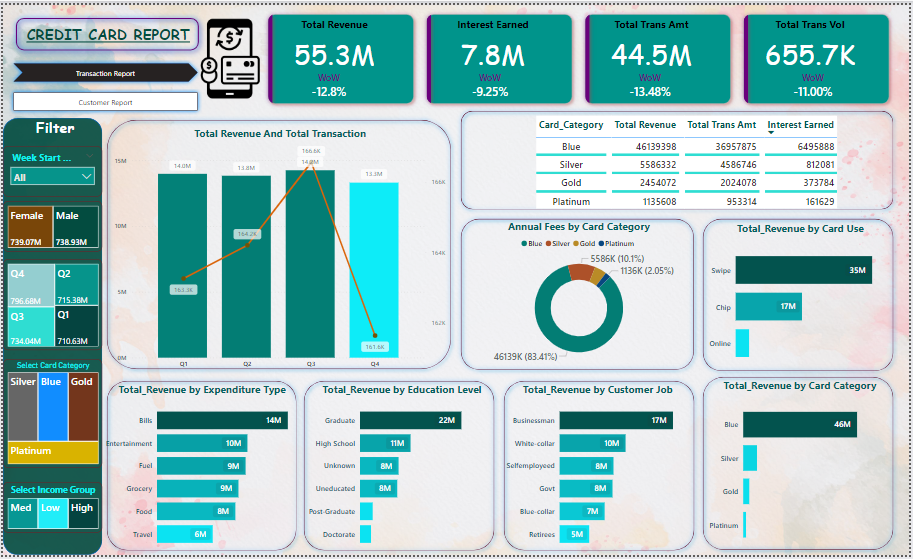

The page's visual inventory and layout, read from the dashboard file:
{"tool":"powerbi","page":{"name":"Transaction Report","canvas":[1680,1020],"ordinal":0},"visuals":[{"type":"shape","box":[11.7,11.7,365,86],"z":0},{"type":"shape","box":[0,210.2,184.1,810.4],"z":0,"group":"g1"},{"type":"group","id":"g1","title":"Group 4","box":[0,204.1,184.1,816.6],"z":1000},{"type":"textbox","box":[23.4,204.1,145.6,57.1],"z":1000,"group":"g1"},{"type":"cardVisual","fields":{"Data":["Sum(credit_card.Total_Revenue)","Sum(credit_card.Interest_Earned)","Sum(credit_card.Total_Trans_Amt)","Sum(credit_card.Total_Trans_Vol)"]},"box":[474.1,0,1187.5,200.4],"z":2000},{"type":"shape","box":[184.1,204.1,656.1,480.3],"z":2000,"group":"g3"},{"type":"shape","box":[840,187.4,819.9,200.8],"z":3000},{"type":"shape","box":[1289.5,681.1,371.2,338.9],"z":4000},{"type":"shape","box":[548.7,687.5,371.2,332.5],"z":5000},{"type":"shape","box":[1289.5,387.3,371.2,300.2],"z":6000,"group":"g2"},{"type":"shape","box":[919.9,687.5,371.2,332.5],"z":6000},{"type":"shape","box":[840,388.2,450.1,297.8],"z":7000,"group":"g4"},{"type":"shape","box":[184,687.5,369.6,332.5],"z":7000},{"type":"barChart","title":"Total_Revenue by Expenditure Type","fields":{"Y":["Sum(credit_card.Total_Revenue)"],"Category":["credit_card.Exp Type"]},"box":[184,698.8,371.2,321.2],"z":8000},{"type":"lineStackedColumnComboChart","title":"Total Revenue And Total Transaction","fields":{"Category":["credit_card.Qtr"],"Y":["Sum(credit_card.Total_Revenue)"],"Y2":["Sum(credit_card.Total_Trans_Vol)"]},"box":[202.1,224.8,623.6,459.6],"z":9000,"group":"g3"},{"type":"barChart","title":"Total_Revenue by Education Level","fields":{"Y":["Sum(credit_card.Total_Revenue)"],"Category":["customer.Education_Level"]},"box":[560,698.8,359.9,321.2],"z":9000},{"type":"barChart","title":"Total_Revenue by Customer Job","fields":{"Y":["Sum(credit_card.Total_Revenue)"],"Category":["customer.Customer_Job"]},"box":[926.4,698.8,351.8,321.2],"z":10000},{"type":"barChart","title":"Total_Revenue by Card Category","fields":{"Y":["Sum(credit_card.Total_Revenue)"],"Category":["credit_card.Card_Category"]},"box":[1304.1,692.4,348.6,327.6],"z":11000},{"type":"tableEx","fields":{"Values":["credit_card.Card_Category","Sum(credit_card.Total_Revenue)","Sum(credit_card.Total_Trans_Amt)","Sum(credit_card.Interest_Earned)"]},"box":[868.4,200.8,791.5,185.7],"z":12000},{"type":"slicer","fields":{"Values":["credit_card.Week_Start_Date"]},"box":[0,261.5,184,93.6],"z":13000},{"type":"barChart","title":"Total_Revenue by Card Use","fields":{"Y":["Sum(credit_card.Total_Revenue)"],"Category":["credit_card.Use Chip"]},"box":[1305.2,400.2,350,287.2],"z":14000,"group":"g2"},{"type":"treemap","fields":{"Group":["credit_card.Qtr"],"Values":["Avg(credit_card.Client_Num)"]},"box":[0,471.3,184,169.5],"z":14000},{"type":"treemap","fields":{"Values":["Avg(credit_card.Client_Num)"],"Group":["customer.Gender"]},"box":[0,363.1,184,93.6],"z":15000},{"type":"donutChart","title":"Annual Fees by Card Category","fields":{"Category":["credit_card.Card_Category"],"Y":["Sum(credit_card.Total_Revenue)"]},"box":[847.5,398.4,441.2,276.7],"z":16000,"group":"g4"},{"type":"treemap","title":"Select Card Category","fields":{"Values":["Avg(credit_card.Client_Num)"],"Group":["credit_card.Card_Category"]},"box":[0,656.9,184,201.7],"z":16000},{"type":"treemap","title":"Select Income Group","fields":{"Values":["Avg(credit_card.Client_Num)"],"Group":["customer.Income_group1"]},"box":[0,884.4,184,93.6],"z":17000},{"type":"textbox","box":[38.5,31.8,329.6,53.5],"z":18000},{"type":"card","title":"WoW","fields":{"Values":["credit_card.WoW_revenue_change"]},"box":[514.5,124.1,181,53.8],"z":19000},{"type":"card","title":"WoW","fields":{"Values":["credit_card.WoW_int_change"]},"box":[812.1,124.1,181,53.8],"z":20000},{"type":"card","title":"WoW","fields":{"Values":["credit_card.WoW_trans_amt_change"]},"box":[1109.7,124.1,181,53.8],"z":21000},{"type":"card","title":"WoW","fields":{"Values":["credit_card.WoW_trans_vol_change"]},"box":[1410.6,123.8,180.7,53.5],"z":22000},{"type":"group","id":"g2","title":"Group 1","box":[1289.5,387.3,371.2,300.2],"z":23000},{"type":"group","id":"g3","title":"Group 2","box":[184.1,204.1,655.9,481.9],"z":24000},{"type":"group","id":"g4","title":"Group 3","box":[840,388.2,450.1,297.8],"z":25000},{"type":"pageNavigator","box":[11.7,100.4,358.1,50.2],"z":26000},{"type":"pageNavigator","box":[11.7,153.9,358.1,50.2],"z":27000},{"type":"image","box":[276.7,10.5,278.2,175],"z":28000}]}

Visuals, with their boxes in screenshot pixels (x1, y1, x2, y2), scaled from the page's 1680x1020 canvas onto the 913x559 screenshot:
shape: (6,6,205,54)
shape: (0,115,100,558)
"Group 4" group: (0,112,100,558)
textbox: (13,112,92,143)
cardVisual - Sum(credit_card.Total_Revenue) x Sum(credit_card.Interest_Earned): (258,0,903,110)
shape: (100,112,457,375)
shape: (456,103,902,213)
shape: (701,373,903,558)
shape: (298,377,500,558)
shape: (701,212,903,377)
shape: (500,377,702,558)
shape: (456,213,701,376)
shape: (100,377,301,558)
"Total_Revenue by Expenditure Type" barChart: (100,383,302,558)
"Total Revenue And Total Transaction" lineStackedColumnComboChart: (110,123,449,375)
"Total_Revenue by Education Level" barChart: (304,383,500,558)
"Total_Revenue by Customer Job" barChart: (503,383,695,558)
"Total_Revenue by Card Category" barChart: (709,379,898,558)
tableEx - credit_card.Card_Category x Sum(credit_card.Total_Revenue): (472,110,902,212)
slicer - credit_card.Week_Start_Date: (0,143,100,195)
"Total_Revenue by Card Use" barChart: (709,219,900,377)
treemap - credit_card.Qtr x Avg(credit_card.Client_Num): (0,258,100,351)
treemap - Avg(credit_card.Client_Num) x customer.Gender: (0,199,100,250)
"Annual Fees by Card Category" donutChart: (461,218,700,370)
"Select Card Category" treemap: (0,360,100,471)
"Select Income Group" treemap: (0,485,100,536)
textbox: (21,17,200,47)
"WoW" card: (280,68,378,97)
"WoW" card: (441,68,540,97)
"WoW" card: (603,68,701,97)
"WoW" card: (767,68,865,97)
"Group 1" group: (701,212,903,377)
"Group 2" group: (100,112,456,376)
"Group 3" group: (456,213,701,376)
pageNavigator: (6,55,201,83)
pageNavigator: (6,84,201,112)
image: (150,6,302,102)
